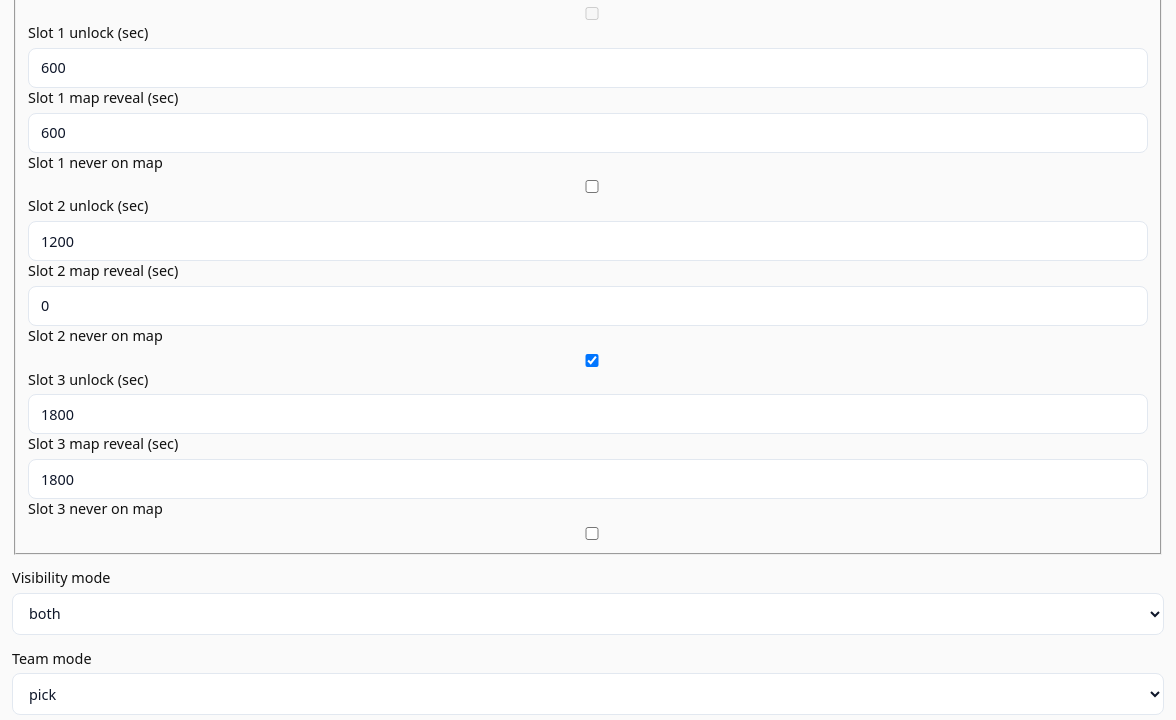
Test: ConfigForm — slot tier (chunk 7) › disables the map-reveal input while 'never on map' is checked
(page scrolled)
expect the number field labelled "Slot 2 map reveal (sec)" is disabled: met, box [28,286,1148,326]
Click the checkbox labelled "Slot 2 never on map". click: (592, 360)
box: [32,354,1152,366]
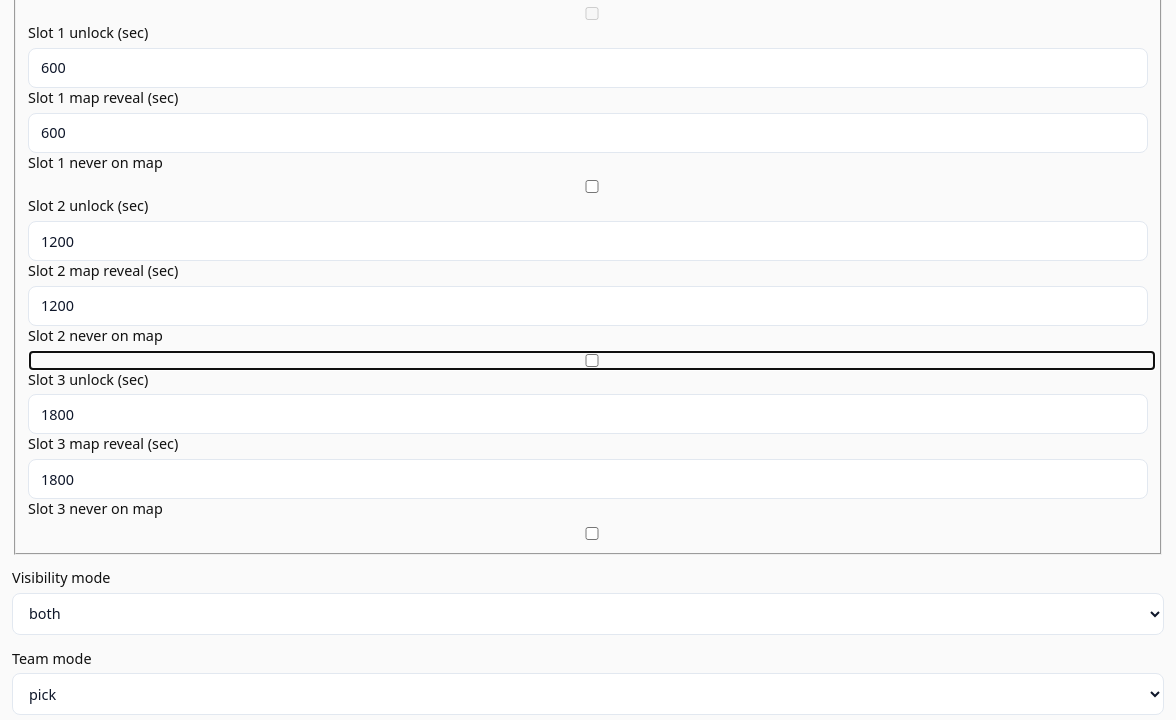
expect the checkbox labelled "Slot 2 never on map" is not checked: met, box [32,354,1152,366]
expect the number field labelled "Slot 2 map reveal (sec)" is enabled: met, box [28,286,1148,326]
